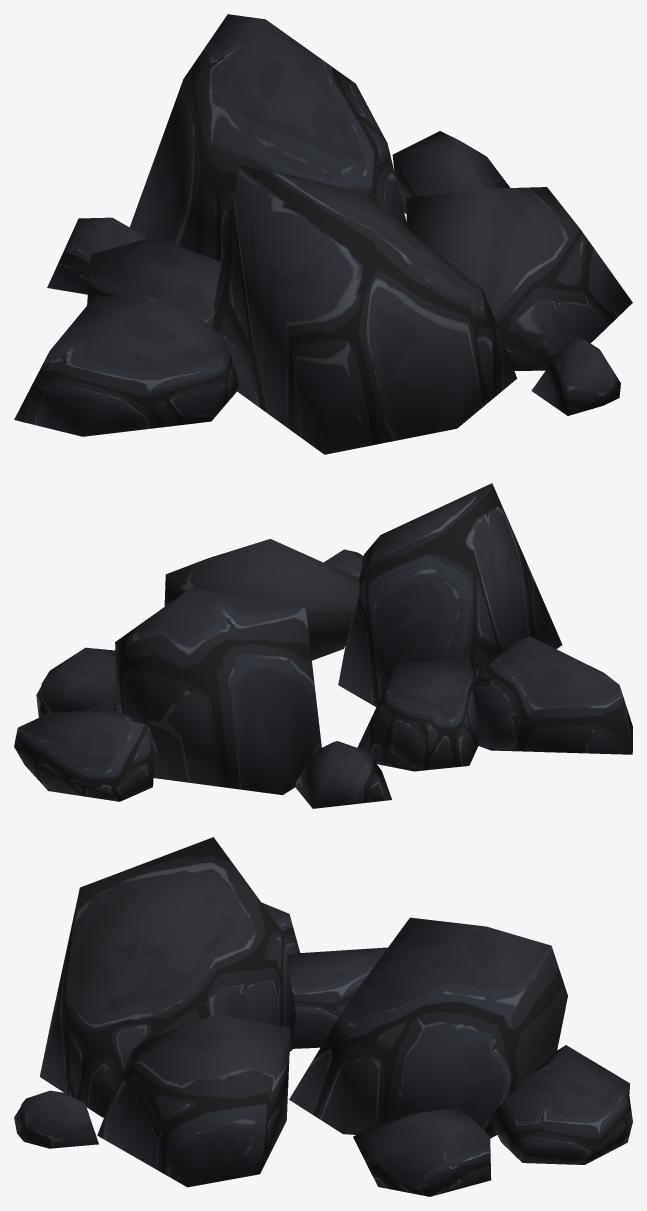
The model's file is SM_PROP_debris_stones_dungeon_03.fbx.
3 renders of one model, top to bottom at view 1: azimuth 30°, elevation 25°; view 2: azimuth 150°, elevation 25°; view 3: azimuth 270°, elevation 25°, orthographic. The views are drawn at different scales.
Visible parts, largest first — view 1: SM_PROP_debris_stones_dungeon_03; view 2: SM_PROP_debris_stones_dungeon_03; view 3: SM_PROP_debris_stones_dungeon_03.
Boxes of the visible parts, left/top/right/bottom form: SM_PROP_debris_stones_dungeon_03: left=14, top=14, right=632, bottom=454; SM_PROP_debris_stones_dungeon_03: left=14, top=483, right=632, bottom=808; SM_PROP_debris_stones_dungeon_03: left=14, top=837, right=632, bottom=1196.
Bounding box in the file's own units: 186 × 64.07 × 189.
